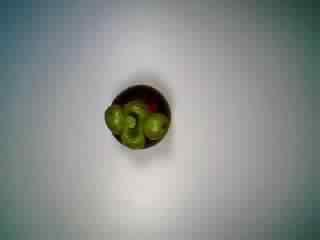mangosteen: (101, 78, 175, 152)
